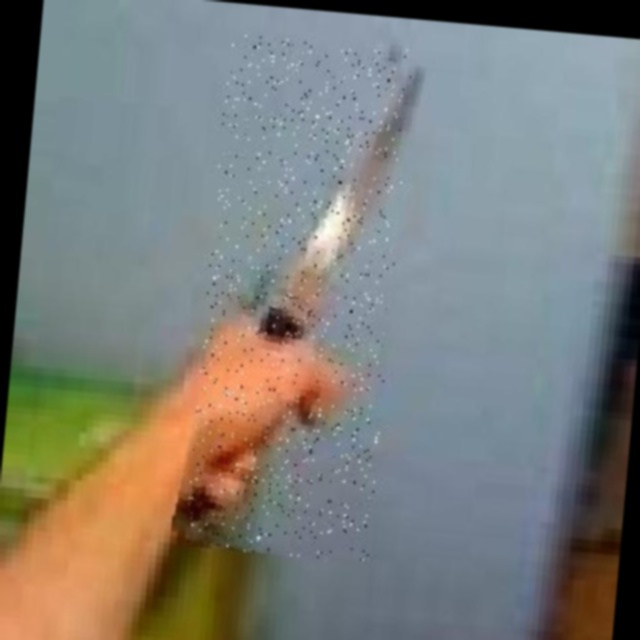Sharp-Object: (184, 34, 414, 562)
